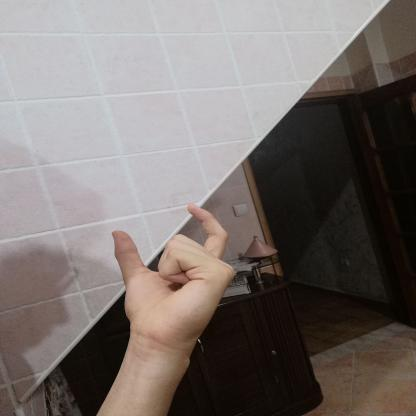NOON: (95, 194, 252, 354)
